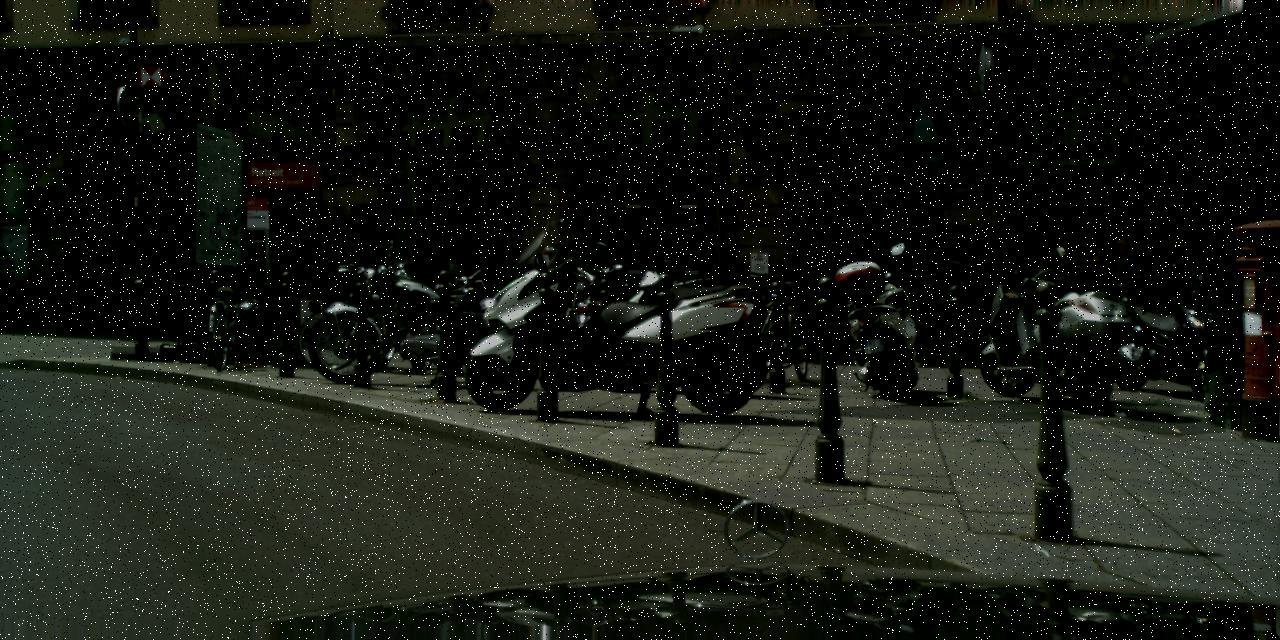ped: (1101, 237, 1148, 352), (222, 236, 262, 334), (1077, 255, 1116, 352)
